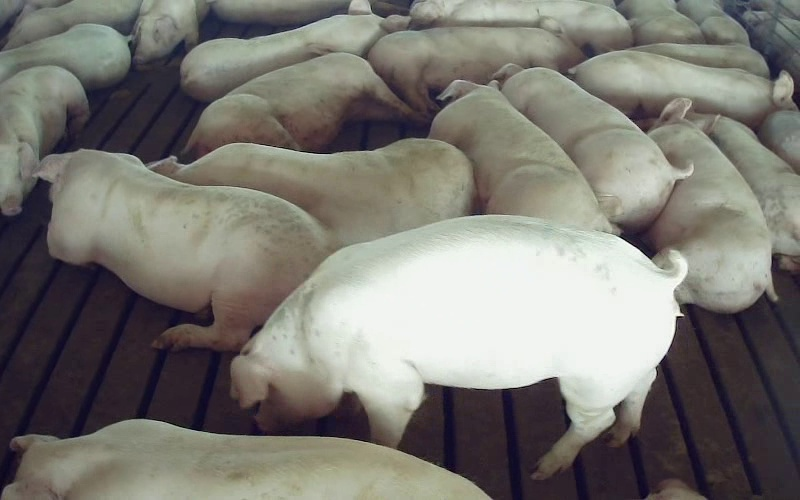pig: (232, 216, 688, 478), (35, 150, 336, 349), (2, 419, 489, 499), (150, 139, 474, 244), (495, 64, 691, 231), (429, 80, 615, 232), (646, 98, 774, 312), (183, 53, 415, 158), (180, 0, 409, 101), (368, 17, 584, 116), (687, 113, 799, 270), (569, 50, 795, 127), (0, 66, 88, 215), (410, 0, 632, 54), (0, 24, 130, 89), (628, 43, 769, 78), (132, 0, 208, 64), (617, 0, 704, 45), (211, 0, 350, 25), (677, 0, 749, 45)
